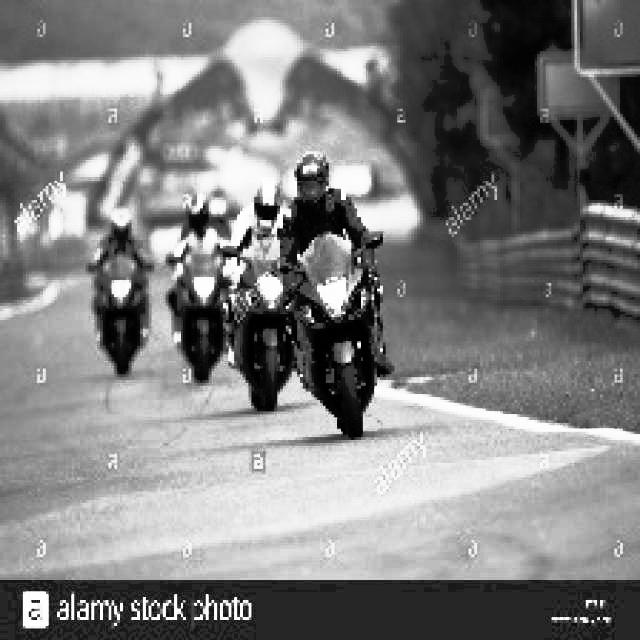Bike: (295, 238, 386, 452), (232, 248, 301, 412), (84, 242, 156, 369), (168, 271, 232, 391)
